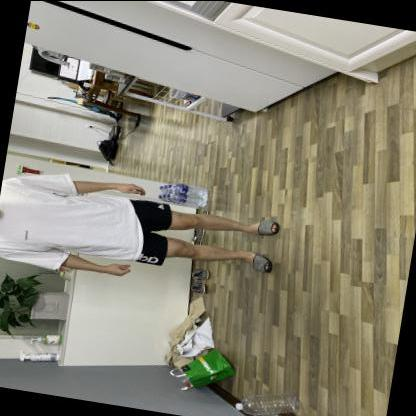no_safety-shoe: (236, 244, 278, 279), (244, 211, 289, 241)
